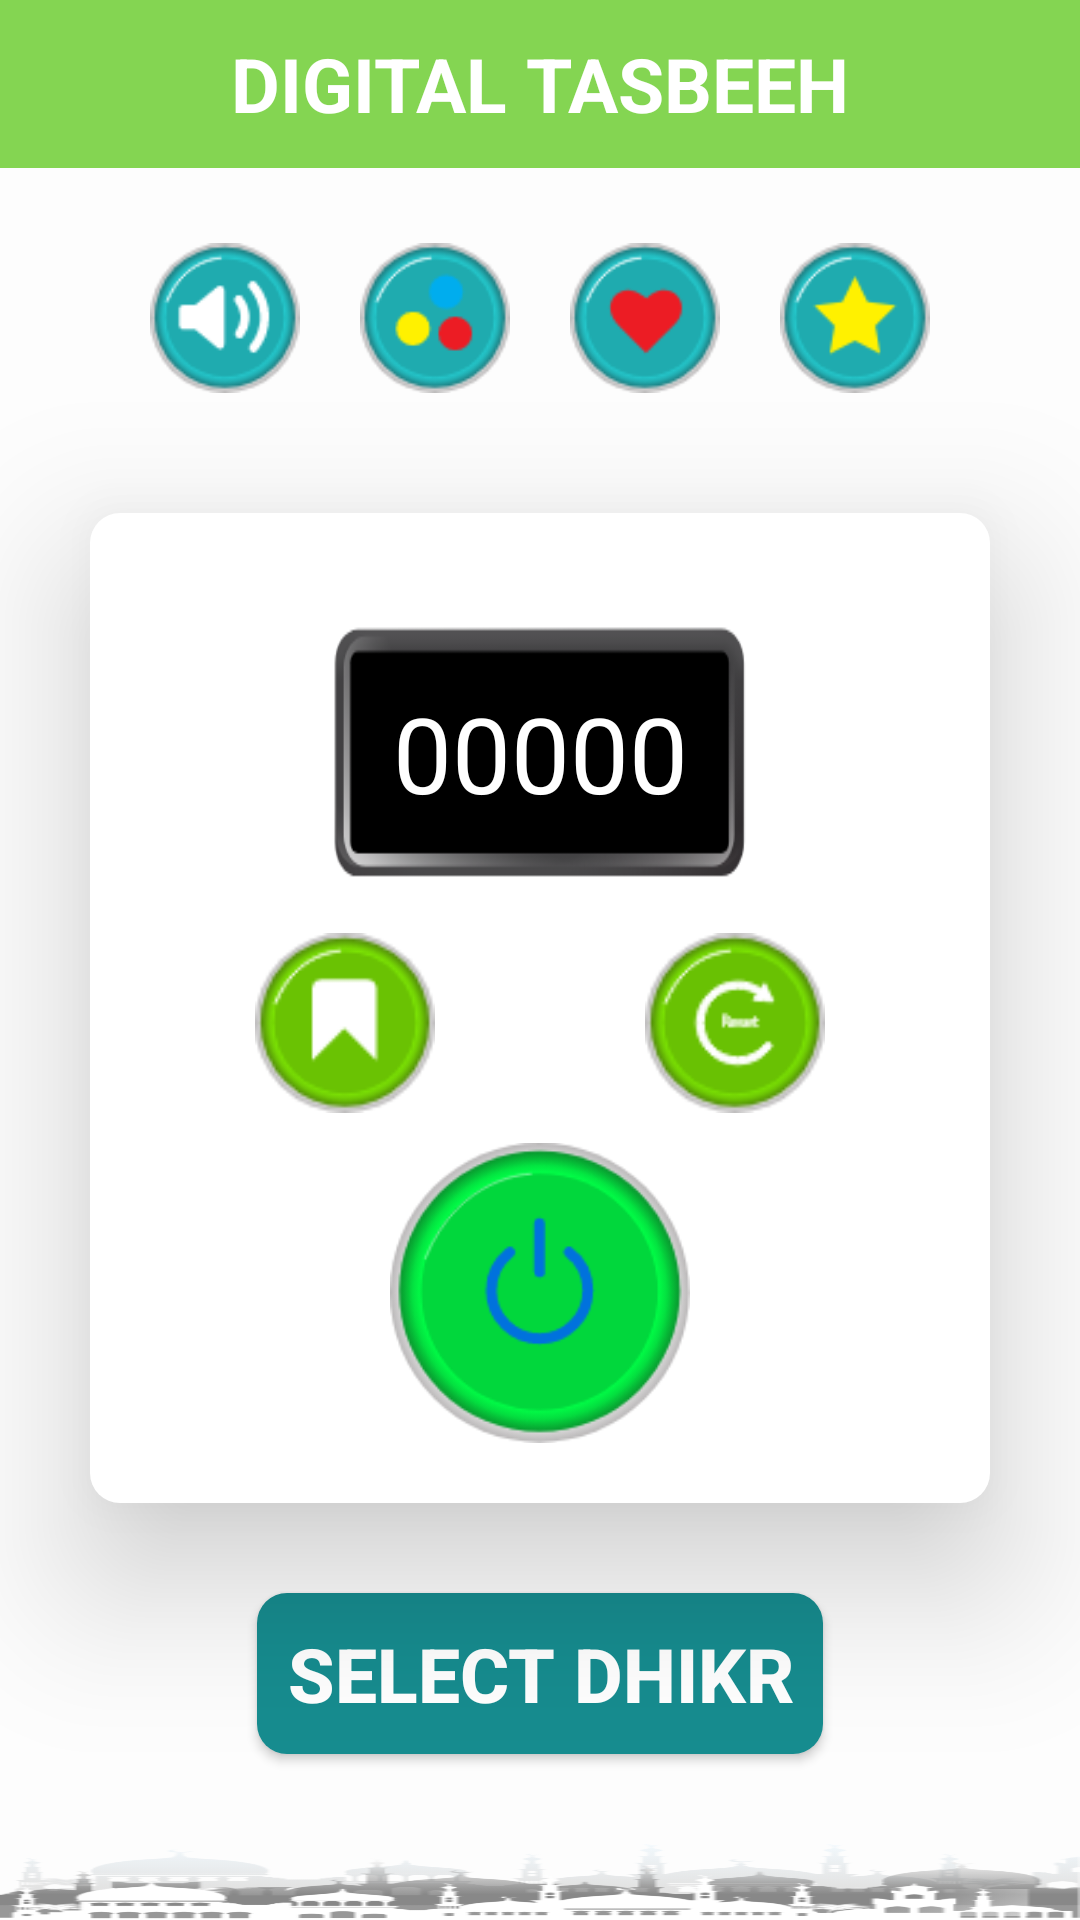

Icon click points for this 1080 × 1920 phone screenshot, format [x,y]:
fovourite: [645,318]
save: [345,1023]
speaker: [225,318]
them: [435,318]
